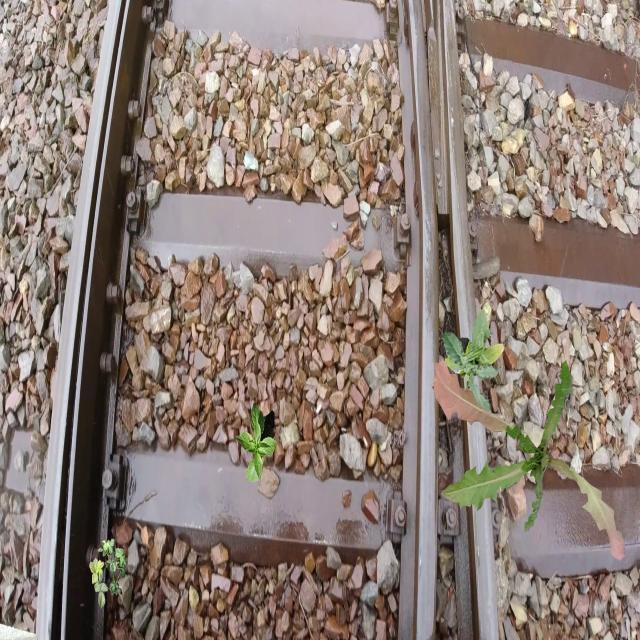Plant: (433, 359, 626, 562), (442, 302, 504, 426), (235, 403, 277, 483), (447, 337, 482, 420), (89, 535, 126, 608)
